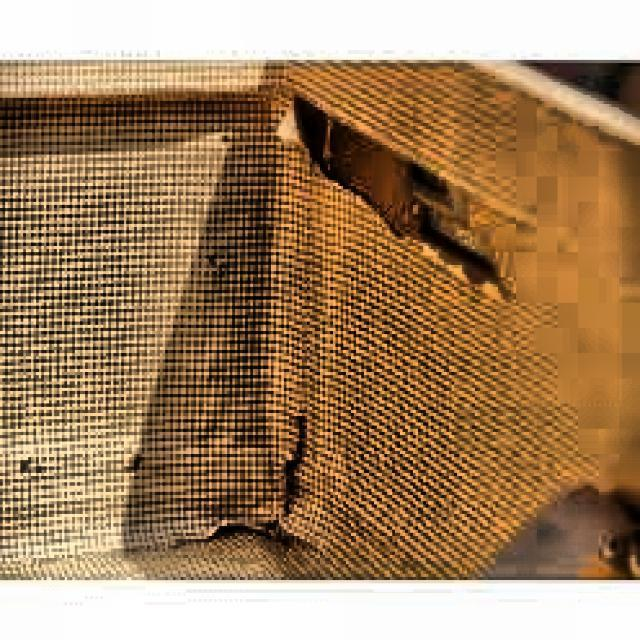cardboard: (0, 53, 637, 577)
